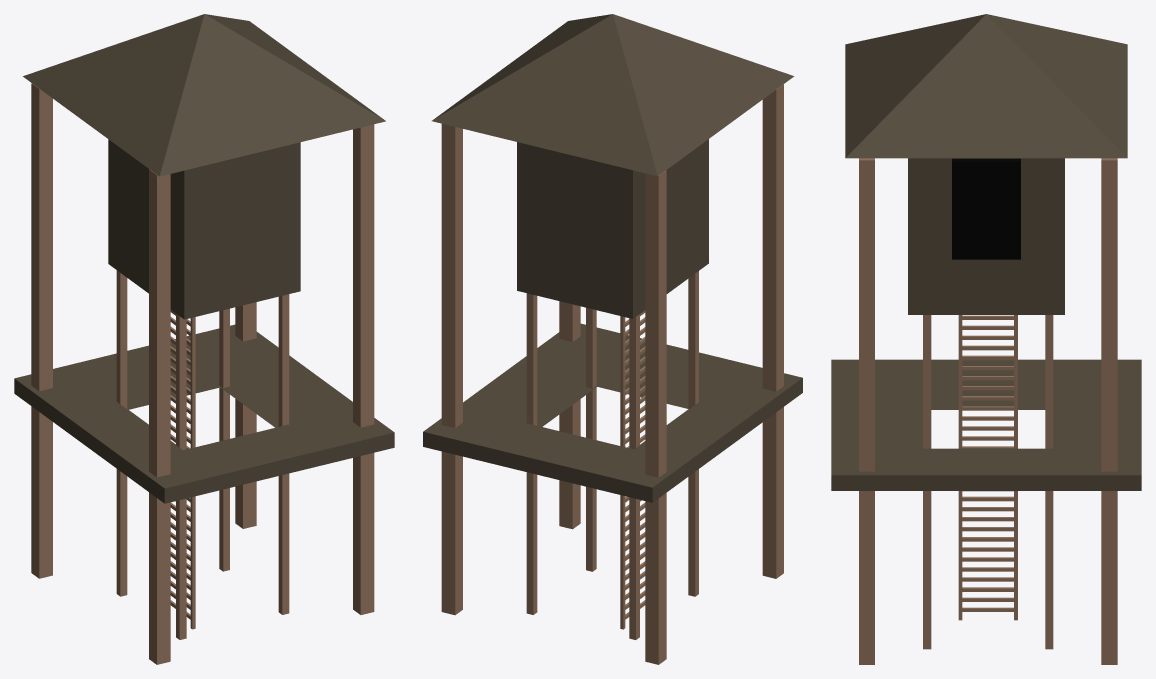
File: SM_Env_Outpost.fbx
3 views of the same model, side by side, from view 1: azimuth 30°, elevation 25°; view 2: azimuth 150°, elevation 25°; view 3: azimuth 270°, elevation 25° (orthographic). The views are drawn at different scales.
Visible parts, largest first — view 1: Cube.006; view 2: Cube.006; view 3: Cube.006.
Boxes of the visible parts, x1,y1,x2,y2 form: Cube.006: (14,14,394,664); Cube.006: (423,14,802,664); Cube.006: (831,14,1141,664).
Size of the model in its own units: 624 by 1370 by 550.
